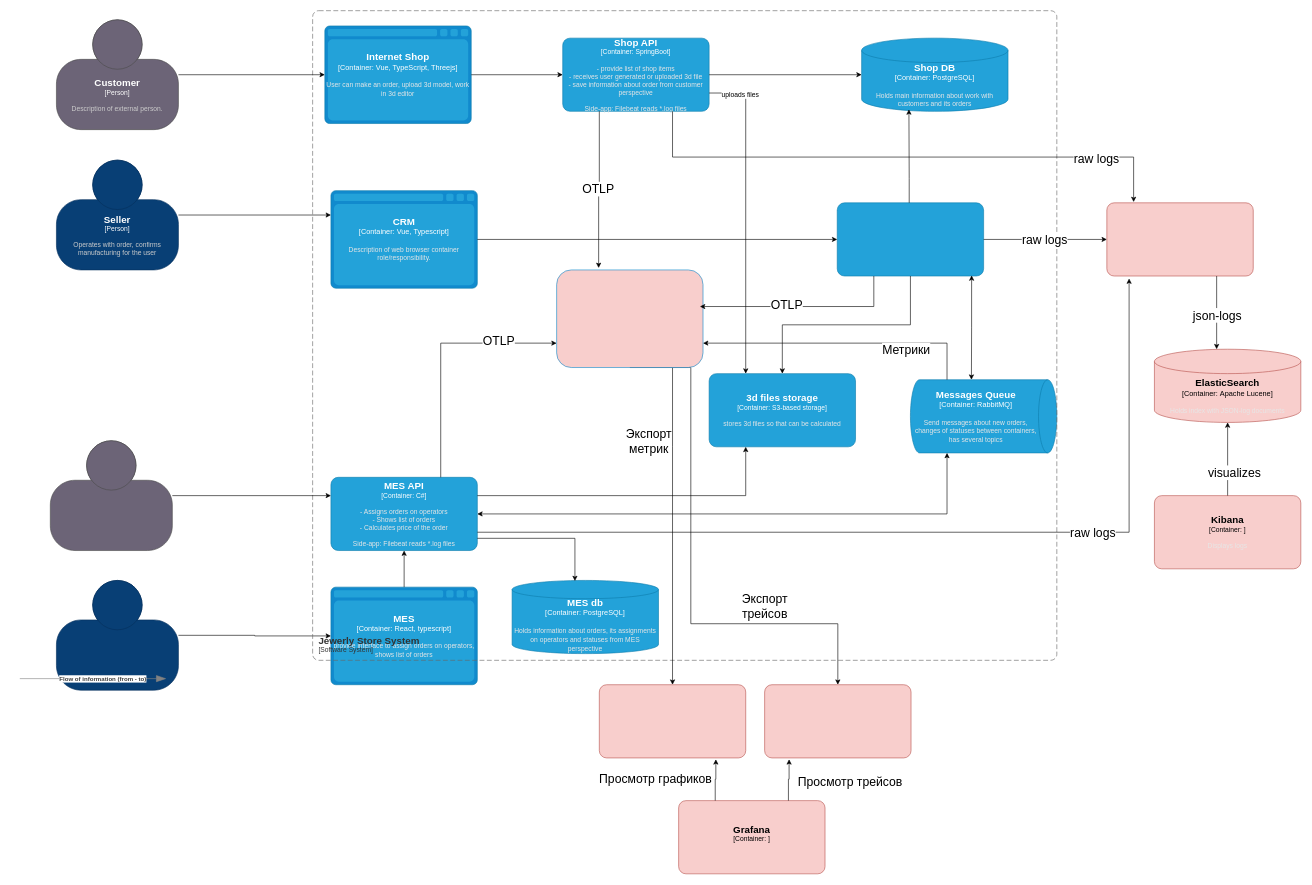
Image size: 1312x885. Some labels were removed from this diagram. The shapes that lost their labels are listed below. From the top down, each one's centre as x and y in pixels, then its label:
the point at 910,239: CRM API [Container: SpringBoot] Side-app: Filebeat reads *.log files
the point at 1179,239: Logstash [Container: ] parses and unifies logs
the point at 629,318: OTel Collector [Container: Open Telemetry]
the point at 111,495: API user [Person] Description of external person.
the point at 117,635: Operator [Person] Takes order in work, manufactures jewerly
the point at 672,721: Prometheus [Container: ]
the point at 837,721: Jaeger [Container: ]
